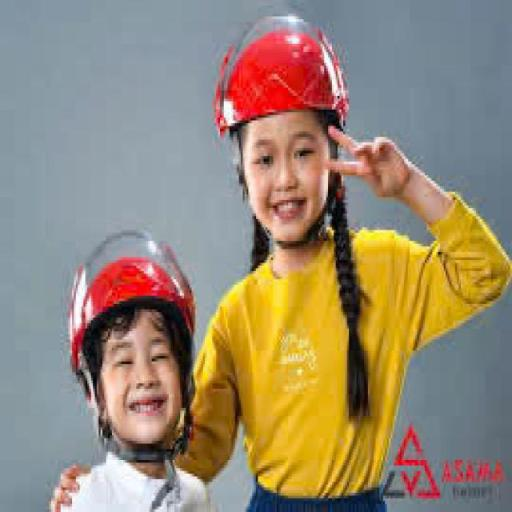with helmet: (212, 8, 352, 136), (67, 225, 198, 361)
